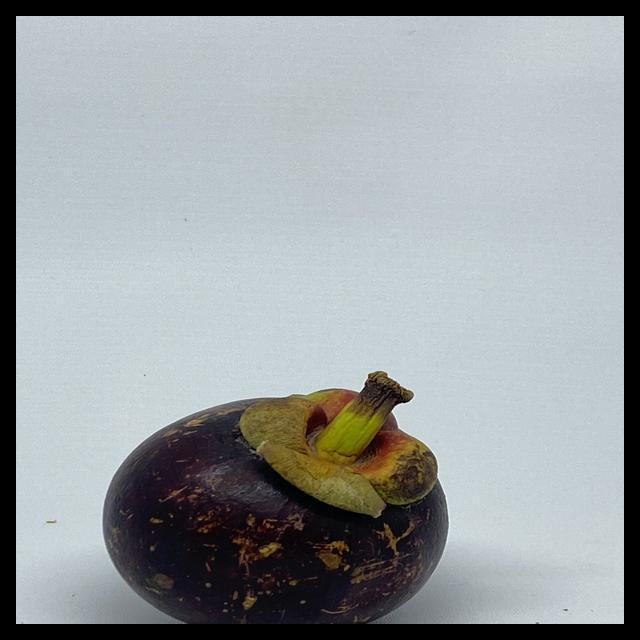mangosteen: (96, 336, 471, 624)
